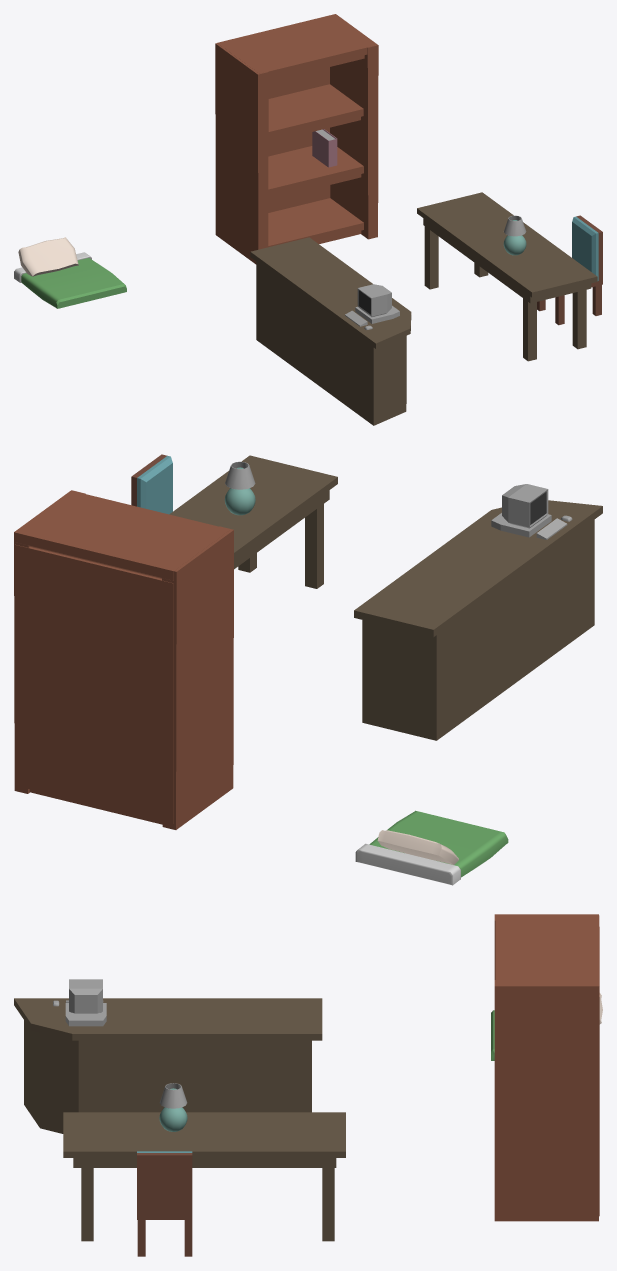
The model's file is Library Assets.fbx.
The picture shows the model from 3 angles, top to bottom: view 1: azimuth 30°, elevation 25°; view 2: azimuth 150°, elevation 25°; view 3: azimuth 270°, elevation 25°; orthographic projection. The views are drawn at different scales.
Visible parts, largest first — view 1: pasted__pCube17, pCylinder1, pCube7, pasted__polySurface3, pasted__pCube43, pasted__polySurface4, pCube12, pasted__pCube27, pasted__pCylinder8; view 2: pasted__pCube17, pCylinder1, pCube7, pasted__polySurface3, pCube12, pasted__pCube43, pasted__polySurface4, pasted__pCylinder8; view 3: pasted__pCube17, pCylinder1, pCube7, pasted__pCube43, pCube12, pasted__pCylinder8.
Part boxes in pixels (box(x1,y1,x2,y2)): pasted__pCube17: box(215, 14, 378, 264); pCylinder1: box(250, 237, 411, 425); pCube7: box(417, 192, 597, 361); pasted__polySurface3: box(14, 252, 126, 308); pasted__pCube43: box(537, 215, 602, 325); pasted__polySurface4: box(18, 237, 78, 276); pCube12: box(355, 284, 399, 323); pasted__pCube27: box(312, 129, 337, 167); pasted__pCylinder8: box(503, 215, 526, 255); pasted__pCube17: box(14, 490, 233, 829); pCylinder1: box(354, 500, 602, 740); pCube7: box(169, 455, 337, 588); pasted__polySurface3: box(355, 810, 508, 885); pCube12: box(491, 484, 551, 537); pasted__pCube43: box(131, 454, 172, 514); pasted__polySurface4: box(377, 830, 458, 864); pasted__pCylinder8: box(224, 461, 255, 515); pasted__pCube17: box(494, 914, 599, 1221); pCylinder1: box(14, 998, 322, 1133); pCube7: box(63, 1112, 345, 1241); pasted__pCube43: box(137, 1151, 192, 1256); pCube12: box(65, 979, 106, 1026); pasted__pCylinder8: box(159, 1083, 187, 1131).
Bounding box in the file's own units: 16.41 × 7.5 × 16.94.
